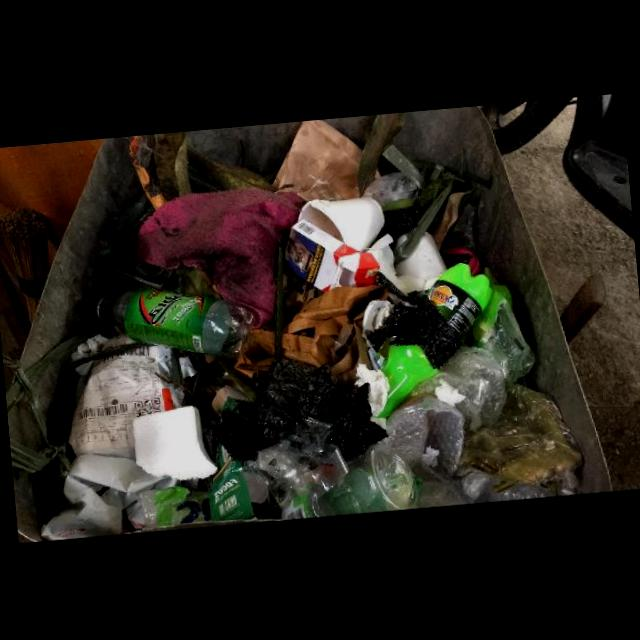carton: (286, 219, 379, 292)
chai_nhua: (428, 262, 492, 339), (377, 344, 439, 419)
chai_nhua_pet: (86, 287, 254, 358), (281, 445, 420, 519)
giay: (271, 119, 362, 201)
tui_ni_long: (41, 343, 199, 540), (211, 357, 388, 462), (402, 300, 535, 431), (457, 384, 583, 502)
xop: (133, 406, 217, 482)
